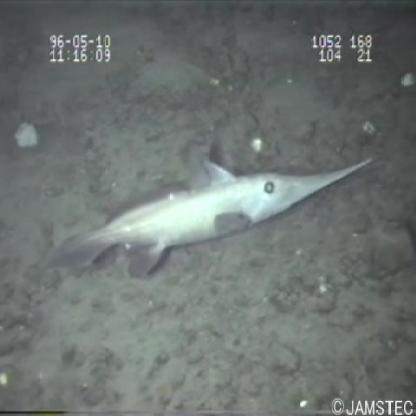Bio: (47, 138, 381, 288)
